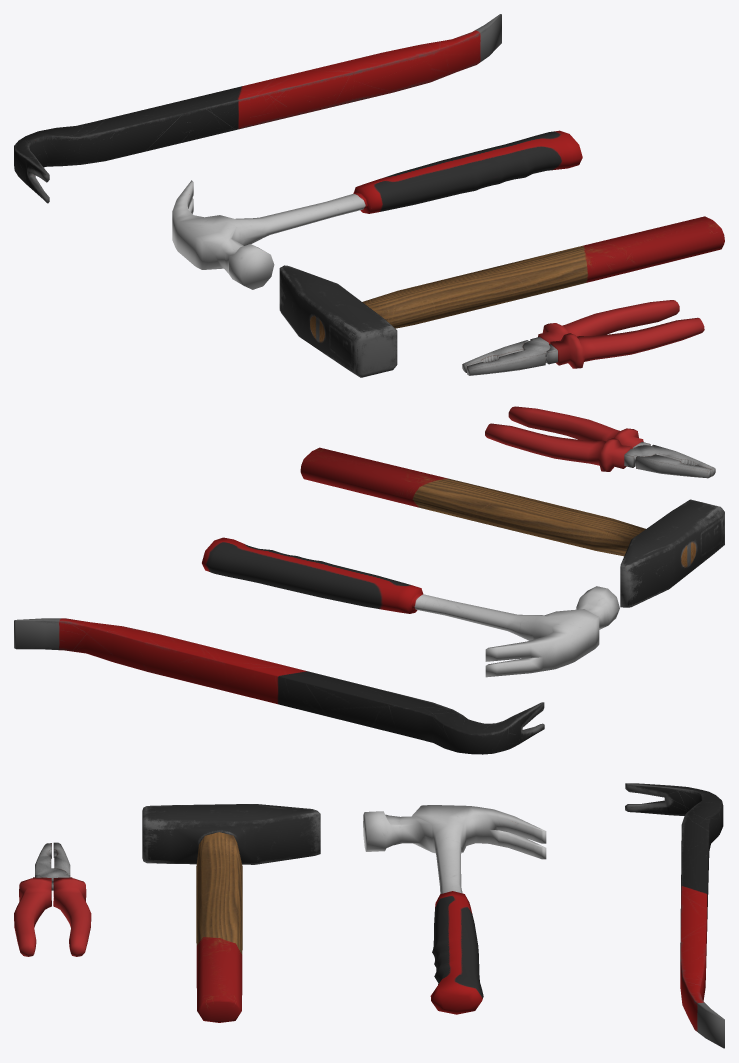
The model's file is tools_asset.glb.
The picture shows the model from 3 angles, top to bottom: view 1: azimuth 30°, elevation 25°; view 2: azimuth 150°, elevation 25°; view 3: azimuth 270°, elevation 25°; orthographic projection. The views are drawn at different scales.
Parts seen in each view (by area): view 1: Hummer2, Fomka1, Hummer1, Pliers; view 2: Fomka1, Hummer2, Hummer1, Pliers; view 3: Hummer2, Hummer1, Fomka1, Pliers.
Boxes of the visible parts, x1,y1,x2,y2 form: Hummer2: [279, 216, 724, 377]; Fomka1: [14, 14, 501, 203]; Hummer1: [172, 130, 582, 289]; Pliers: [462, 300, 704, 375]; Fomka1: [14, 618, 544, 754]; Hummer2: [300, 447, 724, 607]; Hummer1: [202, 537, 619, 677]; Pliers: [485, 406, 715, 478]; Hummer2: [142, 804, 320, 1022]; Hummer1: [363, 805, 546, 1014]; Fomka1: [625, 783, 724, 1048]; Pliers: [14, 842, 91, 956].
Size of the model in its own units: 0.4929 by 0.0422 by 0.6229.
4 materials, 4 textured.
